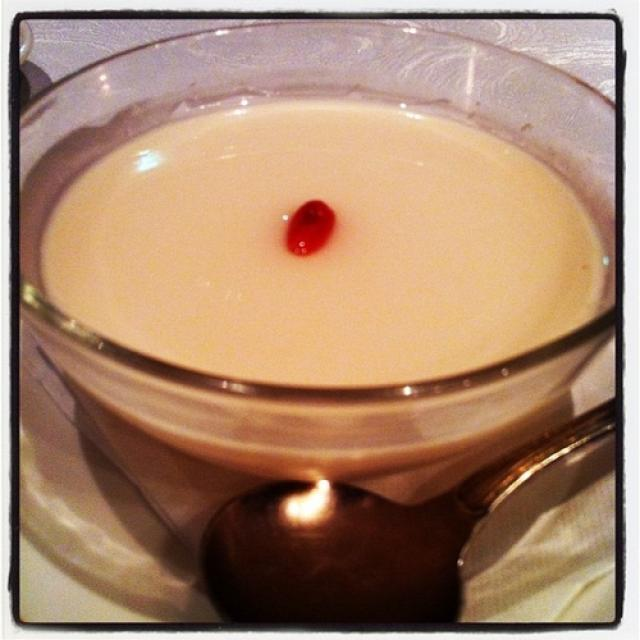三明治: (190, 172, 640, 640)
